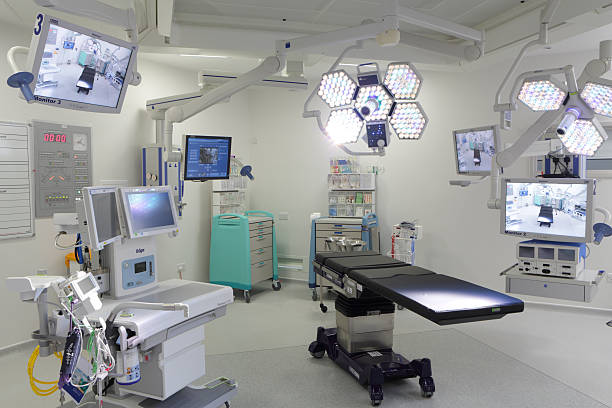bedside_monitor: (15, 7, 143, 116), (500, 175, 595, 277), (179, 131, 234, 183), (450, 122, 502, 176), (123, 194, 181, 229)
medical_drawer: (207, 209, 282, 304), (309, 210, 378, 298)
operating_bed: (310, 249, 527, 408)
surgical_light: (318, 63, 429, 158), (514, 70, 612, 158)
